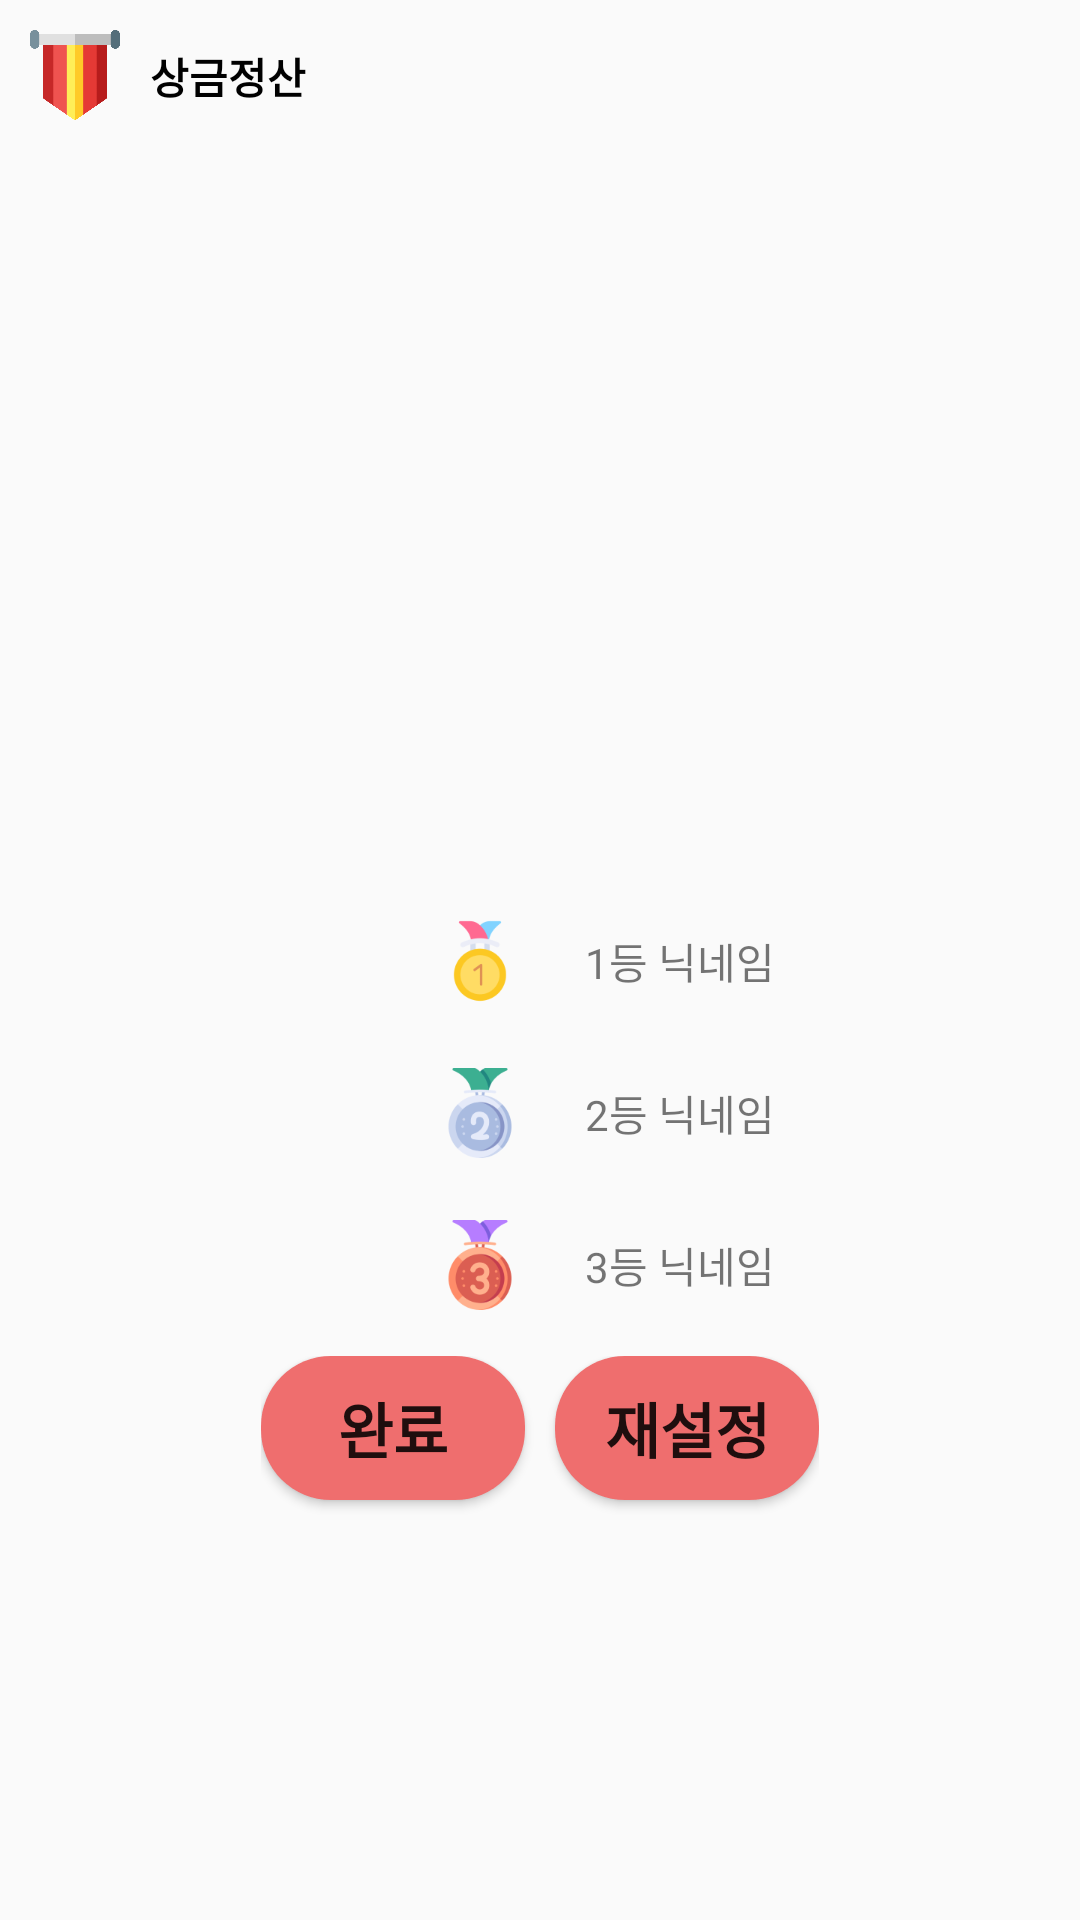

Point at icon controls on the screen. Image size 1080w x 1920h, points as [x,y].
rank: [480,961], [480,1113], [480,1265]
